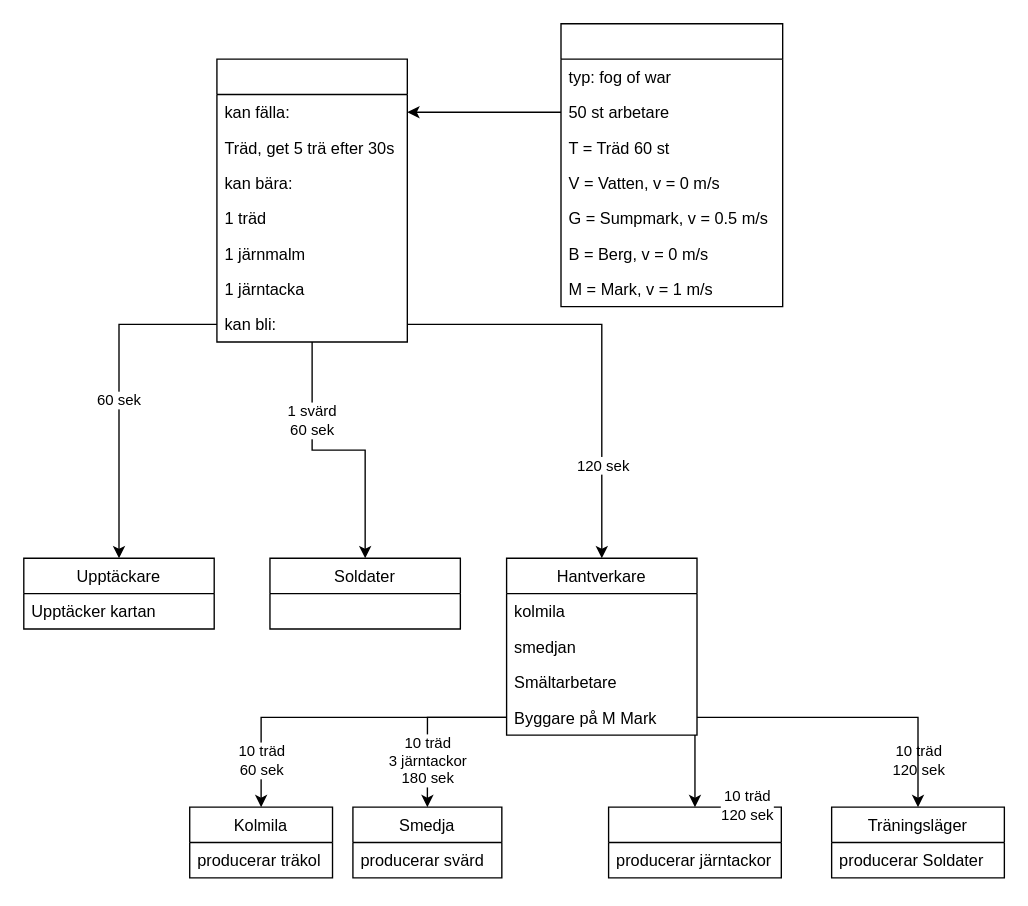
This 1028x906 diagram has some shape labels left out. The shapes that lost their labels are listed below. From the top down, each one's box as (x1, y1, x2, y2) in pixels, then its label:
(560, 22, 783, 307): karta
(216, 58, 407, 342): Arbetare
(607, 806, 781, 878): Smältverk
